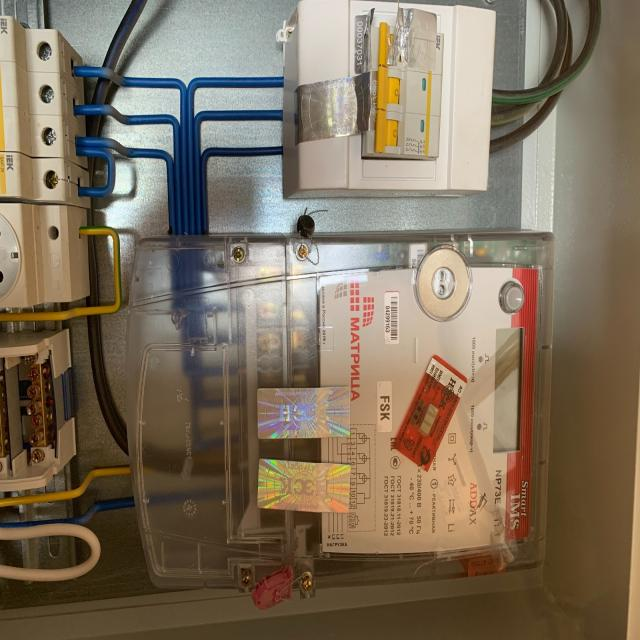Display: (496, 327, 518, 453)
meter_matrica: (210, 260, 540, 609)
meter_number: (384, 290, 400, 343)
seal_imp: (392, 356, 468, 474)
